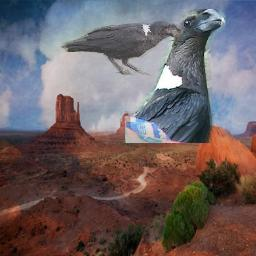Crow: (125, 9, 226, 143), (60, 19, 183, 76)
